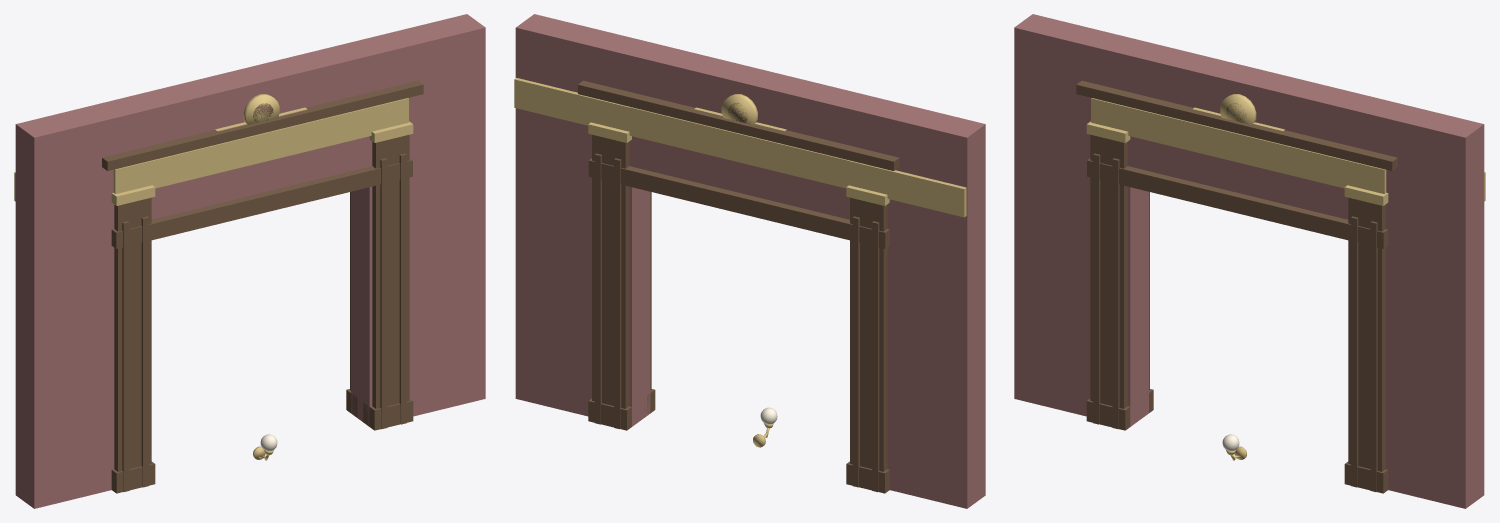
Rendered from amsalon.glb.
3 renders of one model, left to right at view 1: azimuth 30°, elevation 25°; view 2: azimuth 150°, elevation 25°; view 3: azimuth 330°, elevation 25°, orthographic.
Parts seen in each view (by area): view 1: Paper_shoulder, Paper_shoulder.001, Paper_header, Band_doorhead, Wood_pilaster, Wood_pilaster.001, Wood_architrave, Wood_cornice, Wood_flute.002, Wood_flute, Wood_flute.001, Wood_flute.003 (+5 smaller); view 2: Paper_shoulder, Paper_shoulder.001, Paper_header, Band_doorhead.001, Wood_pilaster.002, Wood_pilaster.003, Wood_architrave.001, Wood_cornice.001, Band_shoulder, Band_shoulder.001, Wood_flute.005, Wood_flute.007 (+7 smaller); view 3: Paper_shoulder.001, Paper_shoulder, Paper_header, Band_doorhead, Wood_pilaster.001, Wood_pilaster, Wood_architrave, Wood_cornice, Wood_flute.001, Wood_flute, Wood_flute.002, Wood_flute.003 (+5 smaller).
Part boxes in pixels (x1=…): Paper_shoulder: x1=15, y1=97, x2=150, y2=508; Paper_shoulder.001: x1=351, y1=14, x2=485, y2=425; Paper_header: x1=126, y1=41, x2=376, y2=219; Band_doorhead: x1=113, y1=98, x2=408, y2=193; Wood_pilaster: x1=114, y1=197, x2=151, y2=471; Wood_pilaster.001: x1=372, y1=134, x2=409, y2=408; Wood_architrave: x1=111, y1=158, x2=412, y2=248; Wood_cornice: x1=102, y1=80, x2=423, y2=170; Wood_flute.002: x1=380, y1=158, x2=387, y2=429; Wood_flute: x1=122, y1=221, x2=129, y2=491; Wood_flute.001: x1=141, y1=216, x2=148, y2=487; Wood_flute.003: x1=399, y1=153, x2=406, y2=424; Paper_shoulder: x1=851, y1=96, x2=985, y2=508; Paper_shoulder.001: x1=515, y1=14, x2=650, y2=426; Paper_header: x1=625, y1=41, x2=875, y2=219; Band_doorhead.001: x1=593, y1=98, x2=886, y2=188; Wood_pilaster.002: x1=850, y1=197, x2=887, y2=471; Wood_pilaster.003: x1=592, y1=134, x2=629, y2=408; Wood_architrave.001: x1=588, y1=158, x2=889, y2=248; Wood_cornice.001: x1=578, y1=80, x2=899, y2=170; Band_shoulder: x1=849, y1=161, x2=966, y2=217; Band_shoulder.001: x1=514, y1=78, x2=628, y2=131; Wood_flute.005: x1=852, y1=216, x2=859, y2=487; Wood_flute.007: x1=594, y1=153, x2=601, y2=424; Paper_shoulder.001: x1=1349, y1=97, x2=1484, y2=508; Paper_shoulder: x1=1014, y1=14, x2=1148, y2=426; Paper_header: x1=1123, y1=41, x2=1373, y2=219; Band_doorhead: x1=1091, y1=98, x2=1386, y2=193; Wood_pilaster.001: x1=1348, y1=197, x2=1385, y2=471; Wood_pilaster: x1=1090, y1=134, x2=1127, y2=408; Wood_architrave: x1=1087, y1=158, x2=1388, y2=248; Wood_cornice: x1=1076, y1=80, x2=1397, y2=170; Wood_flute.001: x1=1112, y1=158, x2=1119, y2=429; Wood_flute: x1=1093, y1=153, x2=1100, y2=424; Wood_flute.002: x1=1351, y1=216, x2=1358, y2=487; Wood_flute.003: x1=1370, y1=221, x2=1377, y2=491.
Size of the model in its own units: 7 by 5.59 by 1.
